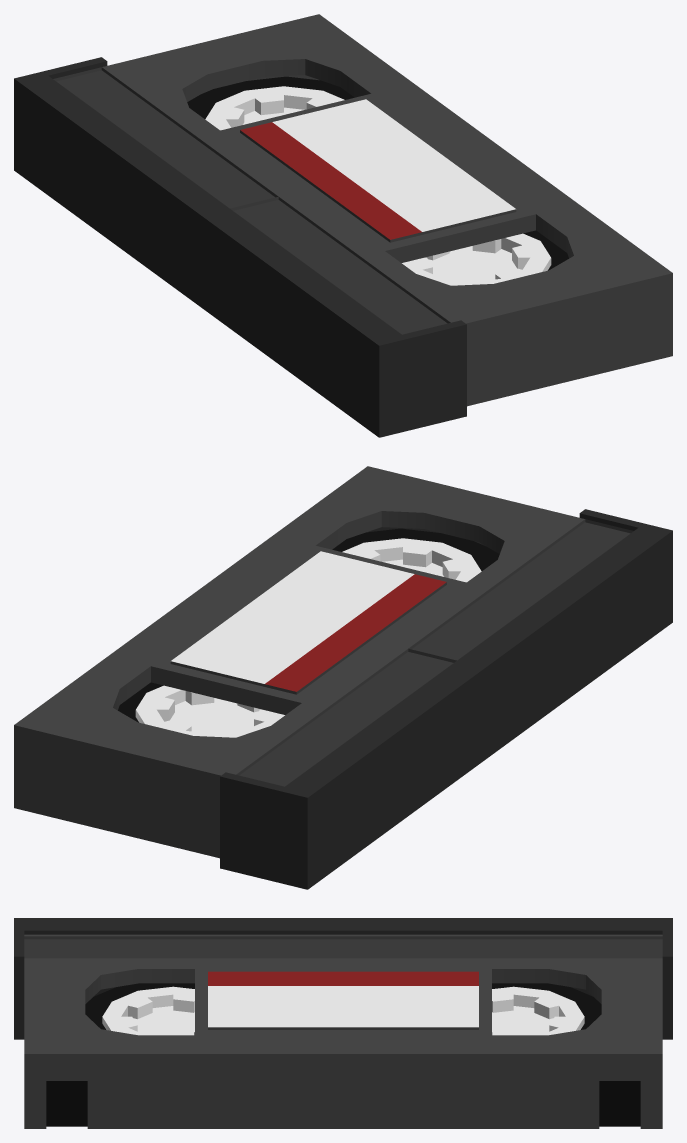
Rendered from VHS_01.glb.
3 views of the same model, one above another, from view 1: azimuth 30°, elevation 25°; view 2: azimuth 150°, elevation 25°; view 3: azimuth 270°, elevation 25° (orthographic). The views are drawn at different scales.
Visible parts, largest first — view 1: Mesh_VHS_01; view 2: Mesh_VHS_01; view 3: Mesh_VHS_01.
Boxes of the visible parts, box(x1,y1,x2,y2) form: Mesh_VHS_01: box(14, 14, 672, 437); Mesh_VHS_01: box(14, 466, 672, 889); Mesh_VHS_01: box(14, 918, 672, 1128).
Bounding box in the file's own units: 0.088 × 0.0258 × 0.1858.
1 material, 1 textured.
